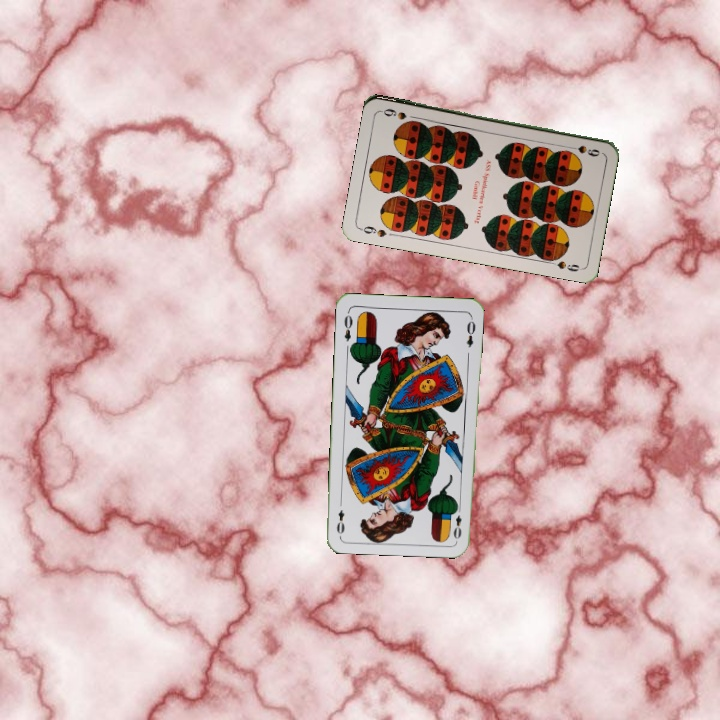EO: (450, 501, 464, 541), (340, 311, 355, 344)
S9: (563, 141, 602, 158), (356, 222, 389, 240)
